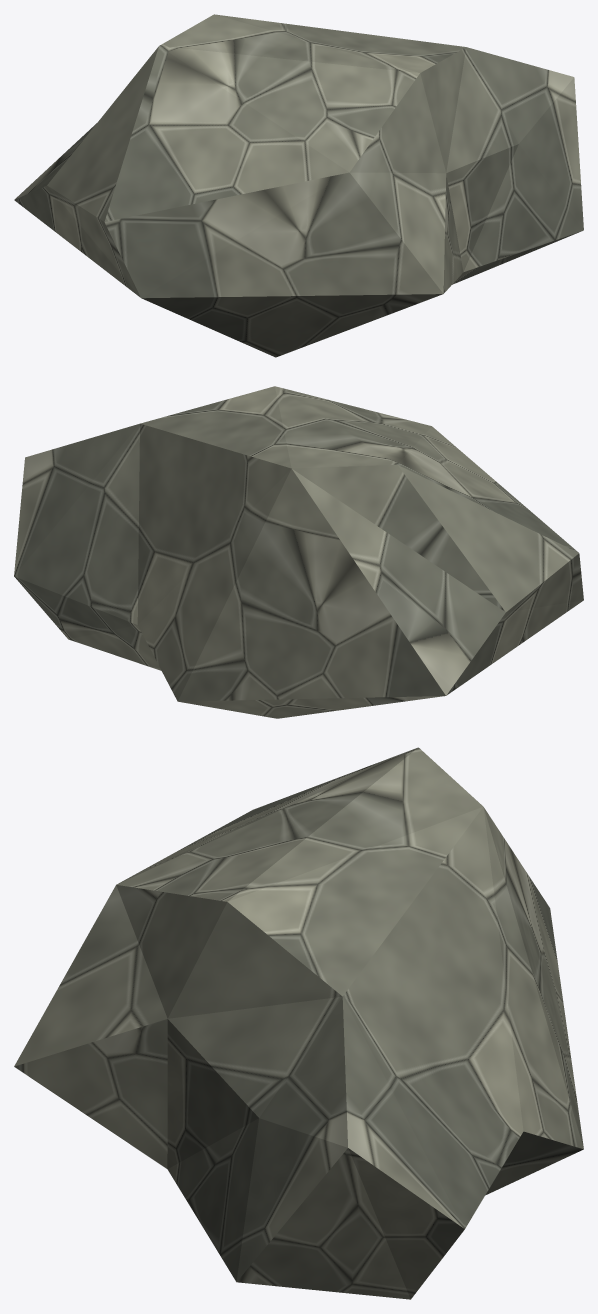
Rendered from rock_b.glb.
3 views of the same model, one above another, from view 1: azimuth 30°, elevation 25°; view 2: azimuth 150°, elevation 25°; view 3: azimuth 270°, elevation 25° (orthographic). The views are drawn at different scales.
Visible parts, largest first — view 1: rock_b; view 2: rock_b; view 3: rock_b.
Part boxes in pixels (bbox=[...]): rock_b: bbox=[14, 14, 583, 357]; rock_b: bbox=[14, 386, 583, 718]; rock_b: bbox=[14, 747, 583, 1299].
Bounding box in the file's own units: 2.55 × 1.21 × 1.85.
Materials: 1 (1 with a texture image).
